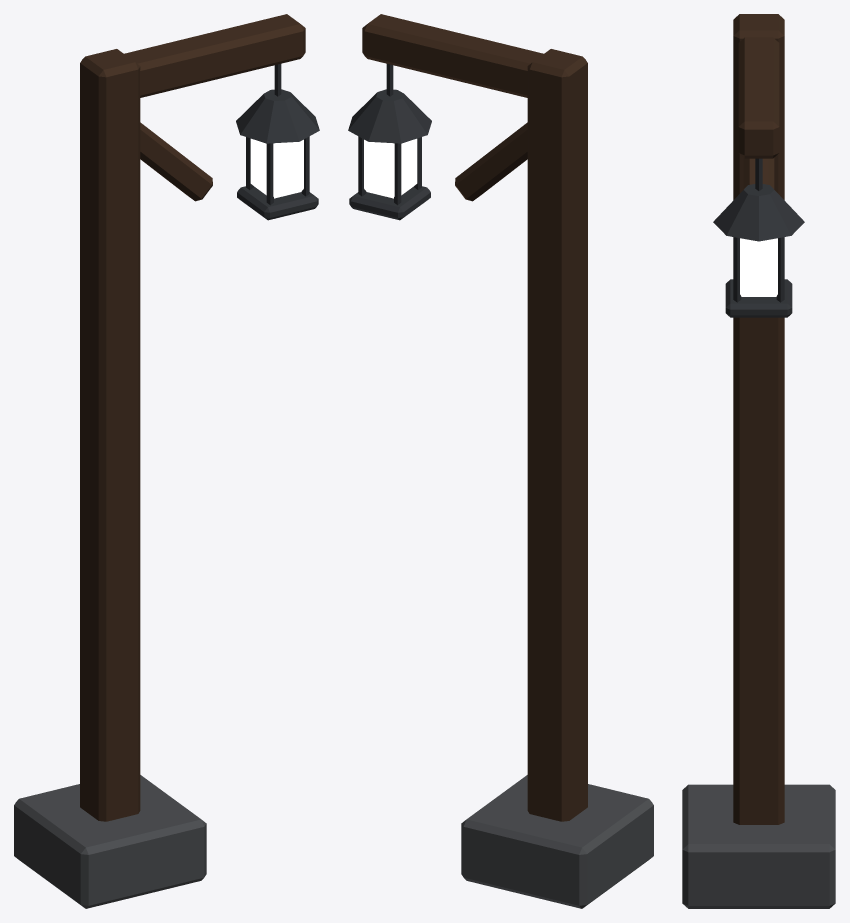
The model's file is lamppost.glb.
The picture shows the model from 3 angles, left to right: view 1: azimuth 30°, elevation 25°; view 2: azimuth 150°, elevation 25°; view 3: azimuth 270°, elevation 25°; orthographic projection. The views are drawn at different scales.
Parts seen in each view (by area): view 1: Lamppost, LampEye; view 2: Lamppost, LampEye; view 3: Lamppost, LampEye.
Part boxes in pixels (x1,y1,x2,y2): Lamppost: (14,14,319,908); LampEye: (250,138,303,198); Lamppost: (348,14,653,908); LampEye: (364,138,417,198); Lamppost: (682,14,835,908); LampEye: (740,238,777,296).
Size of the model in its own units: 0.64 by 1.85 by 0.3.
